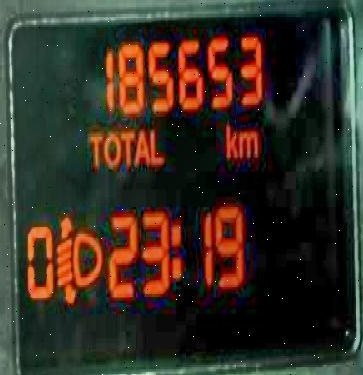0: (26, 220, 53, 298)
1: (202, 207, 214, 291), (102, 38, 114, 118)
2: (108, 211, 137, 296)
3: (141, 207, 168, 293), (239, 31, 262, 107)
5: (207, 35, 232, 109), (148, 40, 173, 111)
6: (177, 36, 202, 107)
8: (117, 40, 143, 113)
9: (214, 202, 243, 287)
X: (170, 218, 181, 280), (87, 124, 102, 169), (102, 129, 118, 167), (133, 129, 148, 169), (149, 127, 164, 167), (119, 127, 133, 167), (238, 129, 258, 155), (224, 120, 237, 155)
